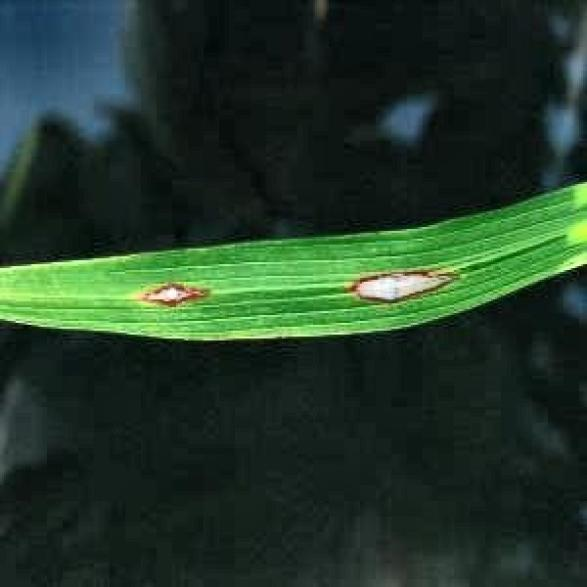Leaf_smut: (340, 254, 464, 304), (135, 272, 211, 311)
